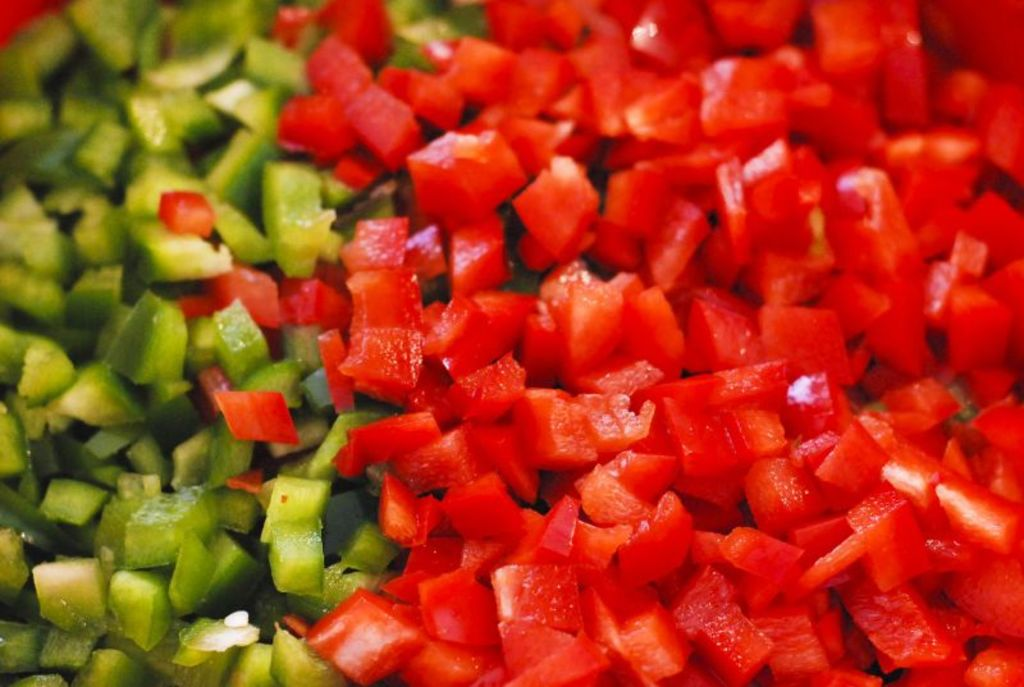salad: (0, 0, 1010, 687)
